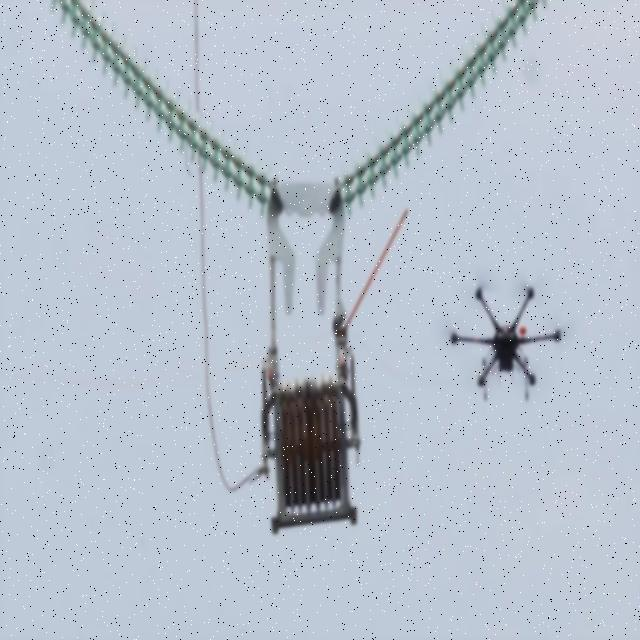UAV: (443, 274, 567, 402)
